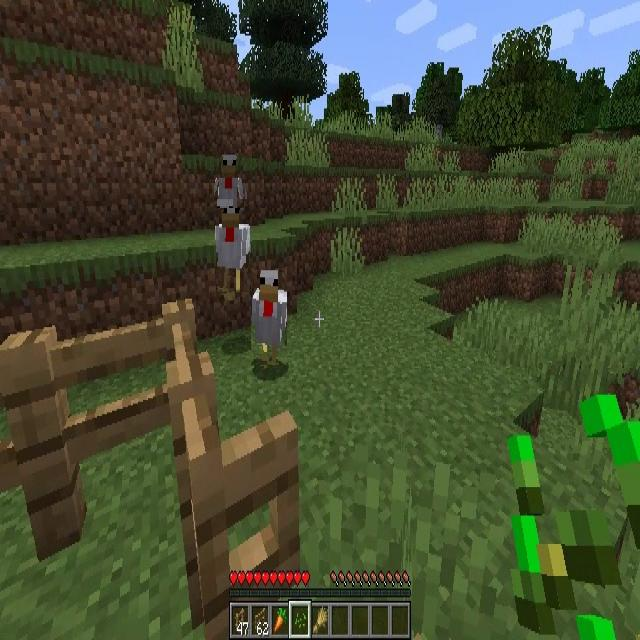duck: (252, 270, 288, 365), (216, 205, 250, 292), (214, 156, 245, 208)
